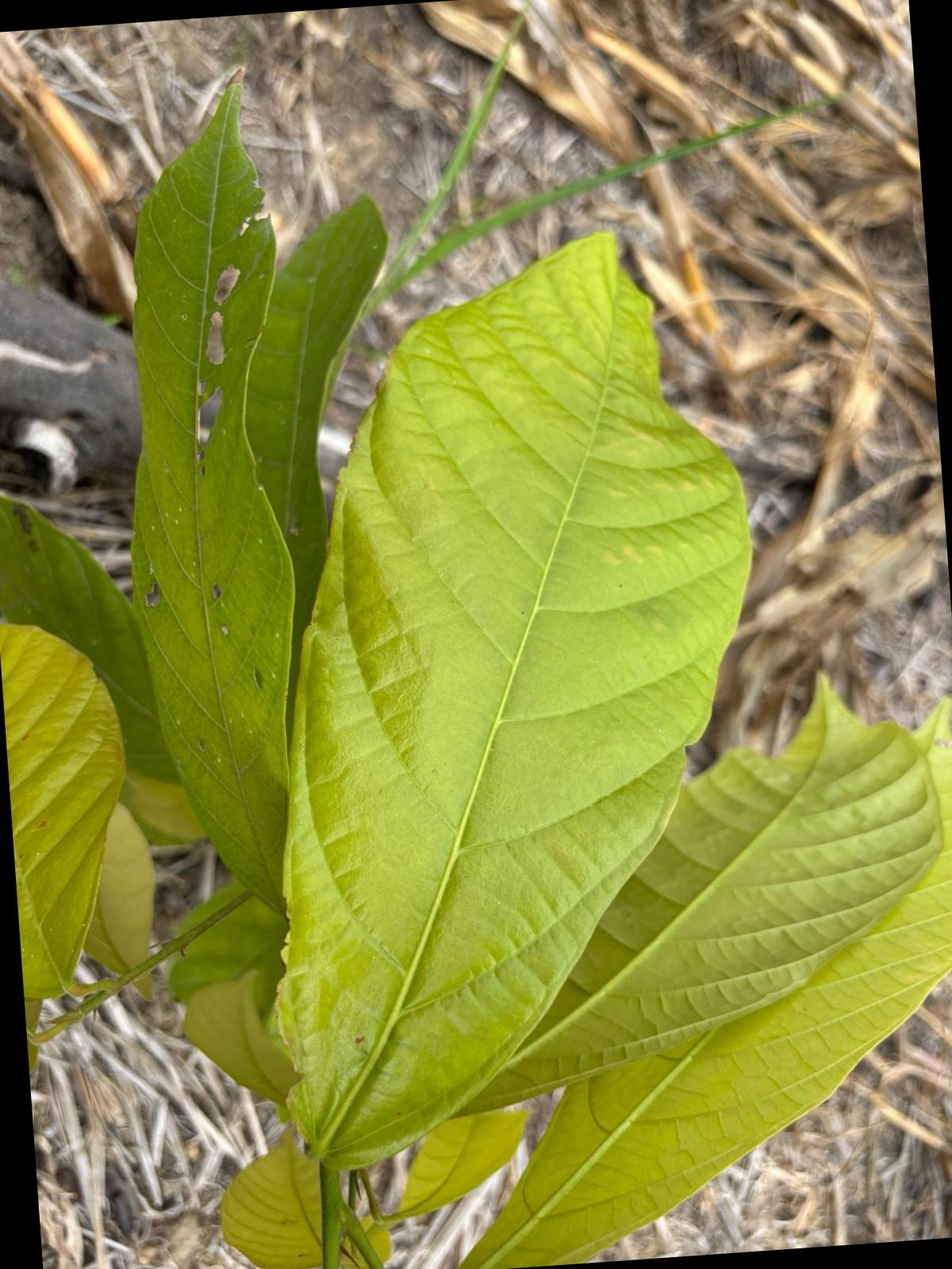Nitrogeno: (279, 235, 750, 1169)
